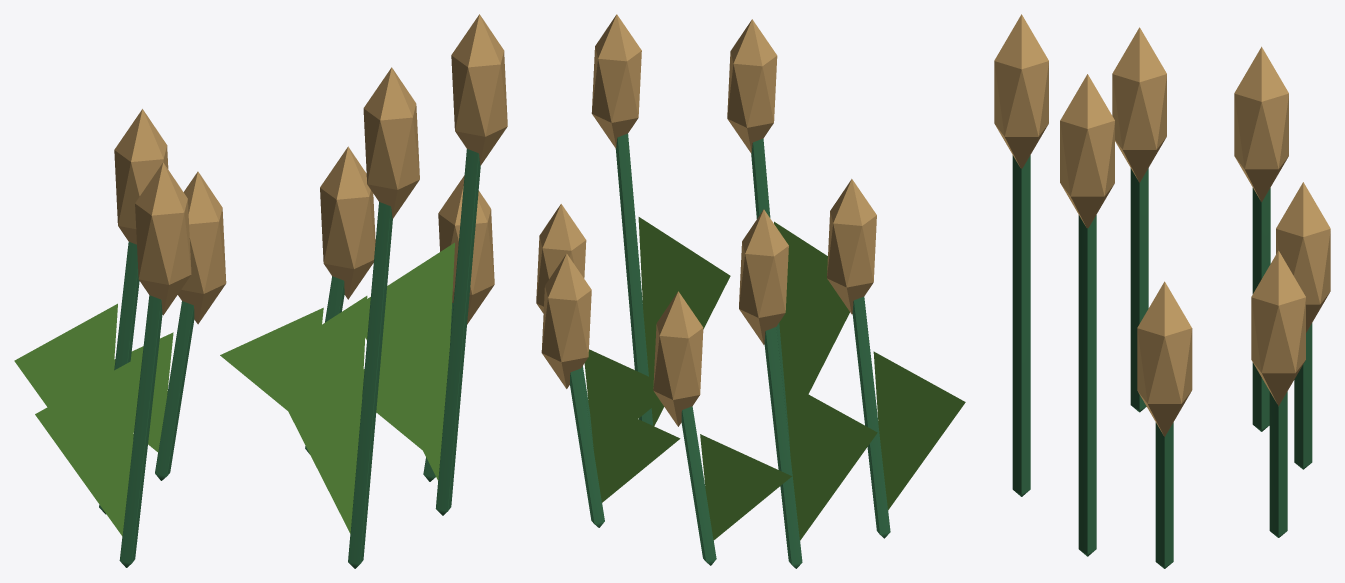
The model's file is reeds.glb.
3 views of the same model, side by side, from view 1: azimuth 30°, elevation 25°; view 2: azimuth 150°, elevation 25°; view 3: azimuth 270°, elevation 25° (orthographic). The views are drawn at different scales.
Visible parts, largest first — view 1: ReedsMesh; view 2: ReedsMesh; view 3: ReedsMesh.
Part boxes in pixels (x1,y1,x2,y2): ReedsMesh: (14,14,507,568); ReedsMesh: (536,14,965,568); ReedsMesh: (994,14,1330,568).
Size of the model in its own units: 0.7663 by 0.7701 by 0.4689.
